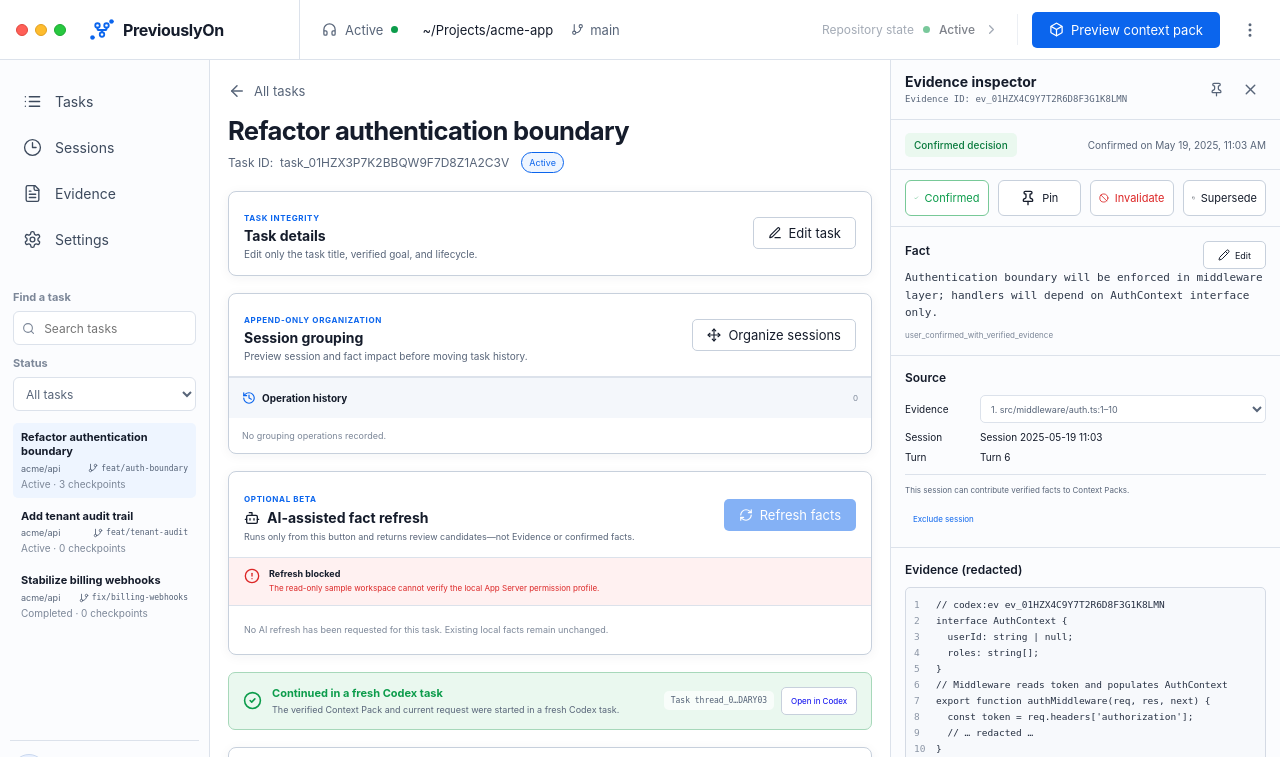
Test case: PreviouslyOn review workspace › edits task title, goal, and lifecycle with the deterministic suggestion contract
Click the button "Edit task": [804, 233] box [752, 217, 856, 249]
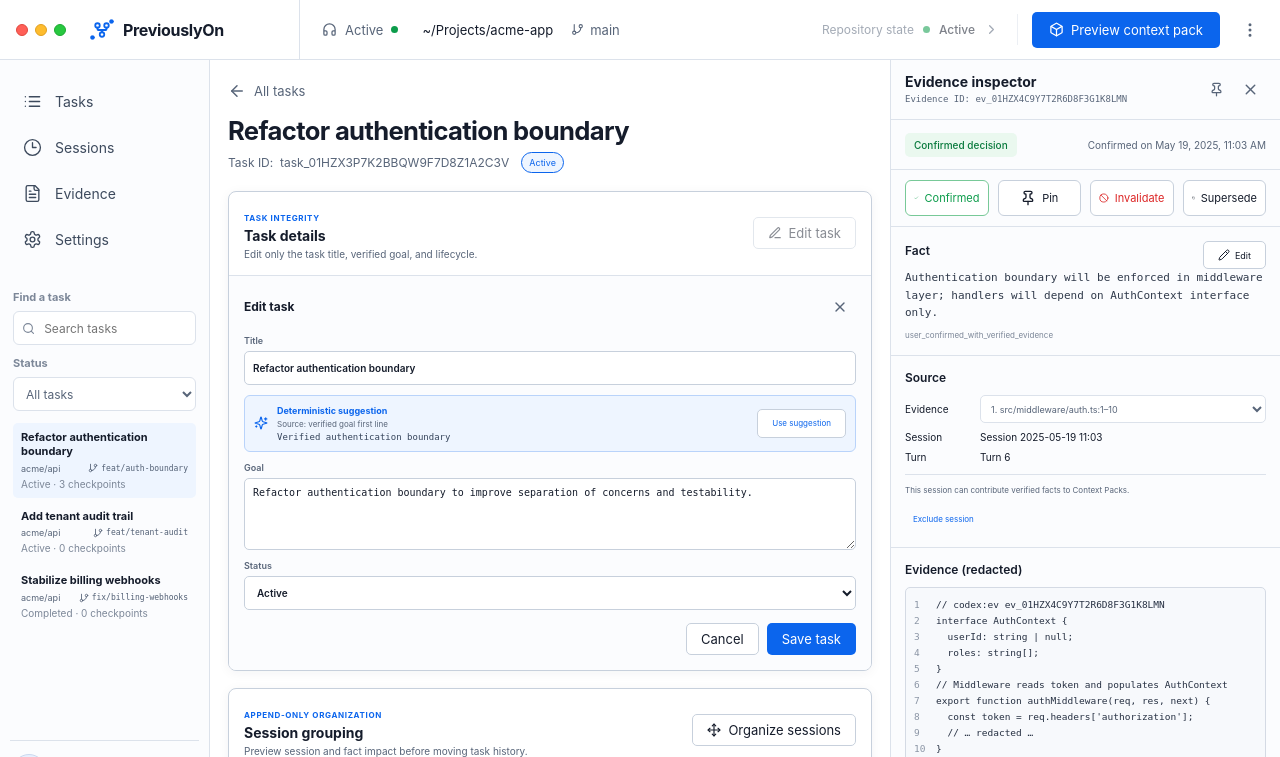
Expected: the text "Source: verified goal first line" is shown, [277, 419, 388, 429]
Click the button "Use suggestion": [802, 423] box [757, 409, 846, 438]
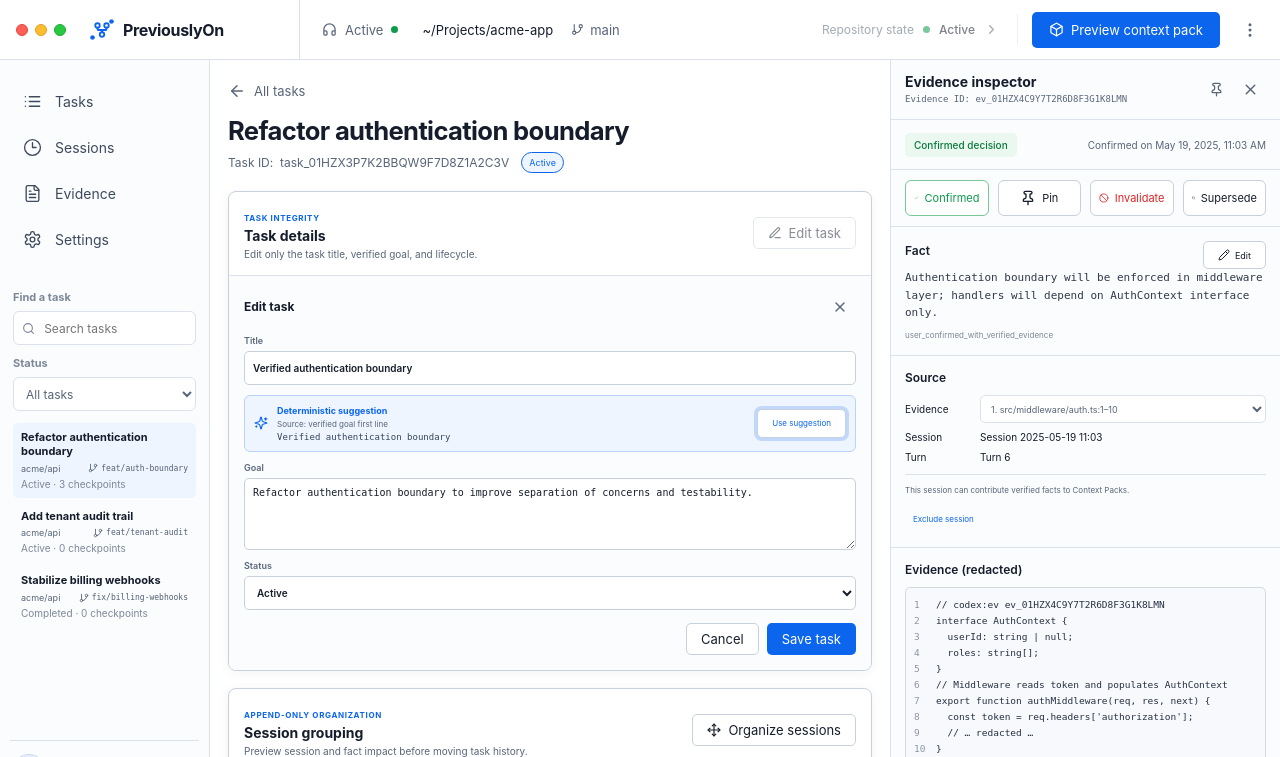
Replace the text in the text box labelled "Goal" with "Keep authentication at the verified middleware boundary.": [550, 514] box [244, 478, 856, 550]
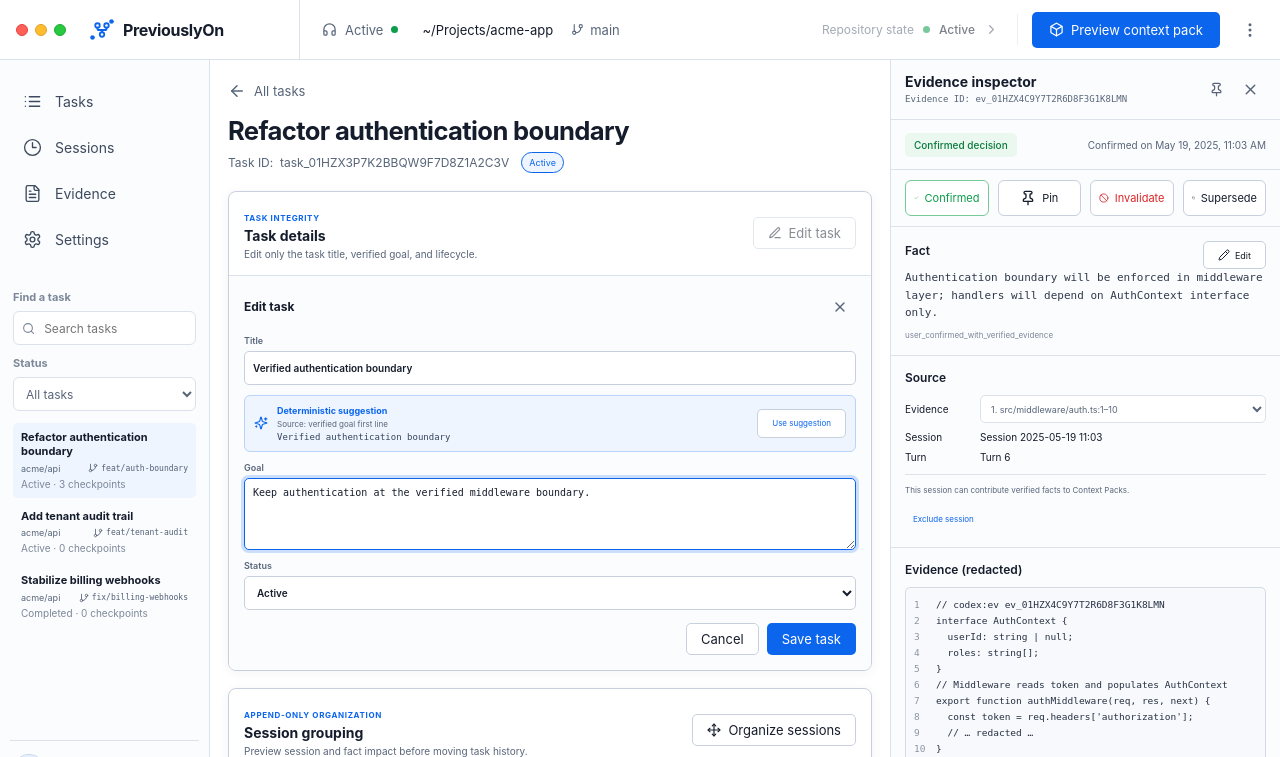
Select "Completed" in the dropdown labelled "Status" below "Verified authentication boundary": [550, 593] box [244, 576, 856, 610]
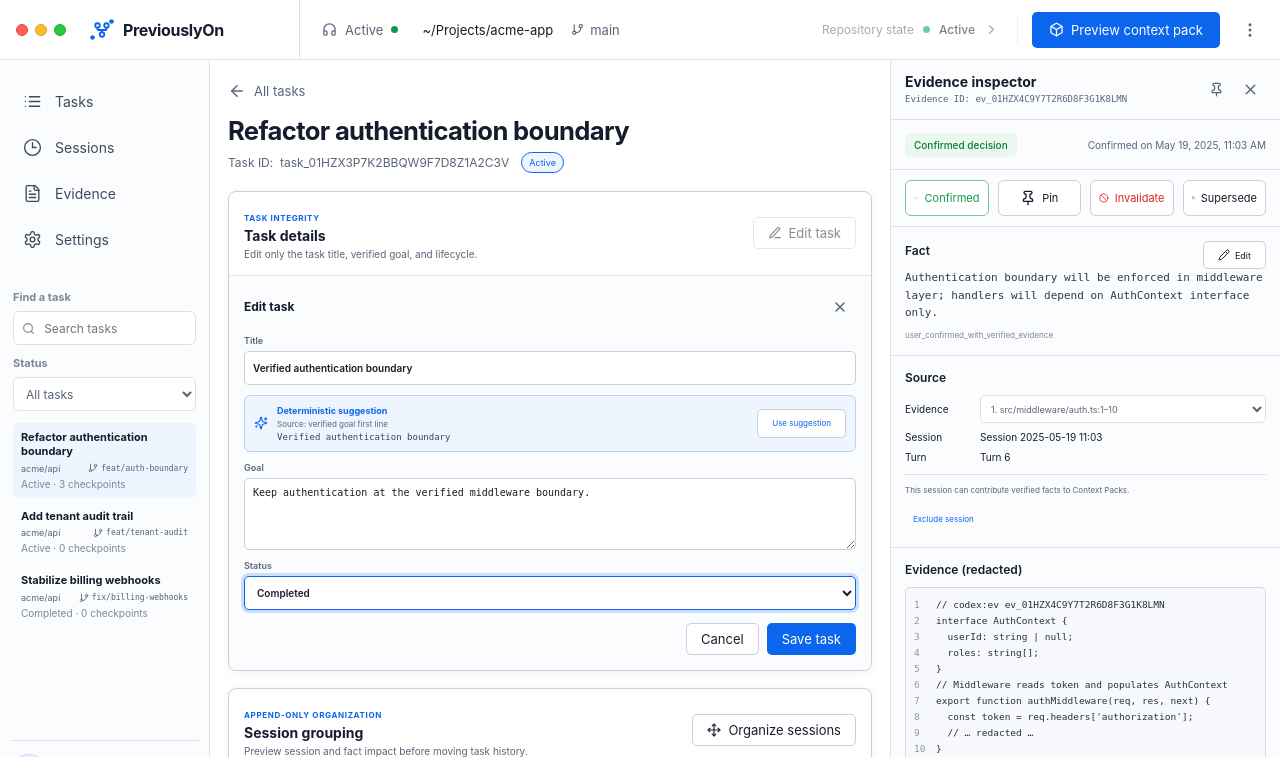
Click the button "Save task": [811, 639] box [767, 623, 856, 655]
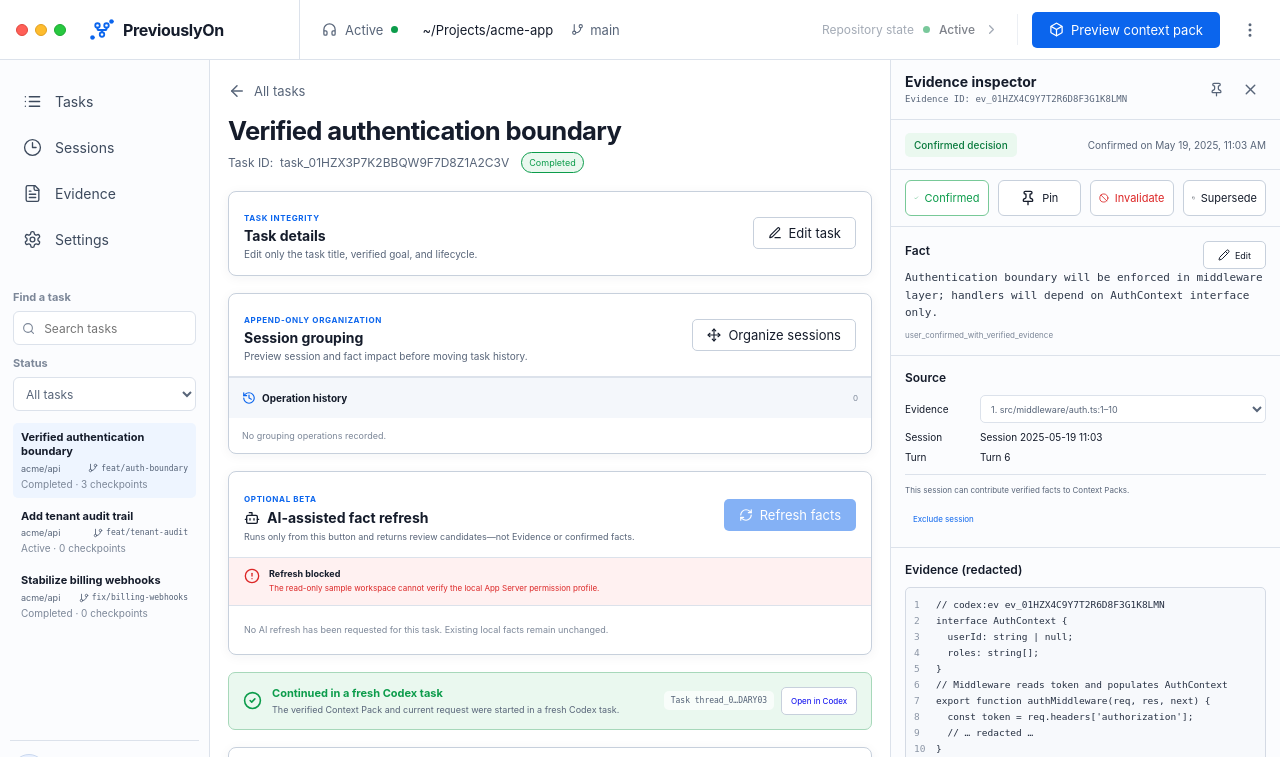
Expected: the heading "Verified authentication boundary" is shown, [228, 116, 621, 146]
Expected: the text "completed" is shown, [521, 152, 584, 173]
